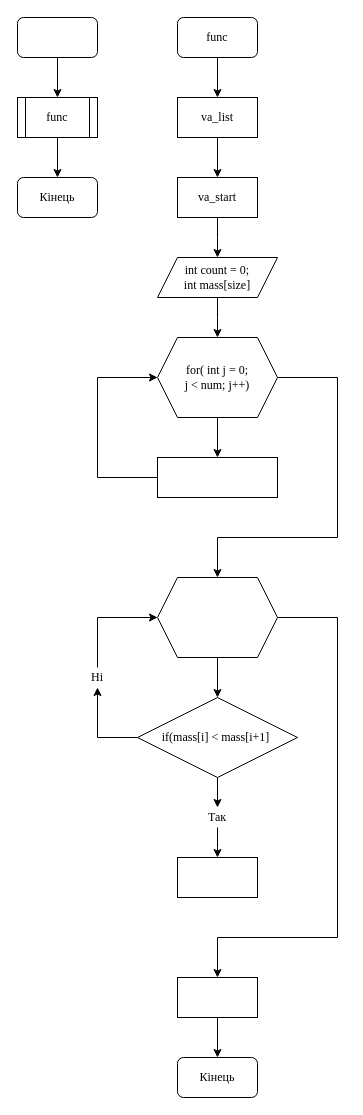
Some shapes in this 363 by 1115 pixel diagram are drawn without their labels. The box of each missing label's shape, as (x1, y1, x2, y2) in pixels:
count++: (176, 856, 258, 898)
for( int i = 0; i < num; i++): (156, 576, 278, 658)
mass[j] = va_args: (156, 456, 278, 498)
va_end: (176, 976, 258, 1018)
Початок: (16, 16, 98, 58)
